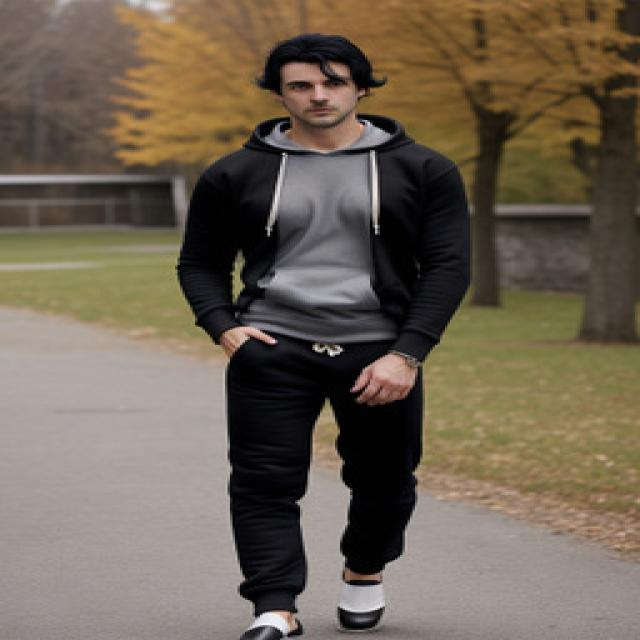Ai human 2: (161, 27, 516, 640)
